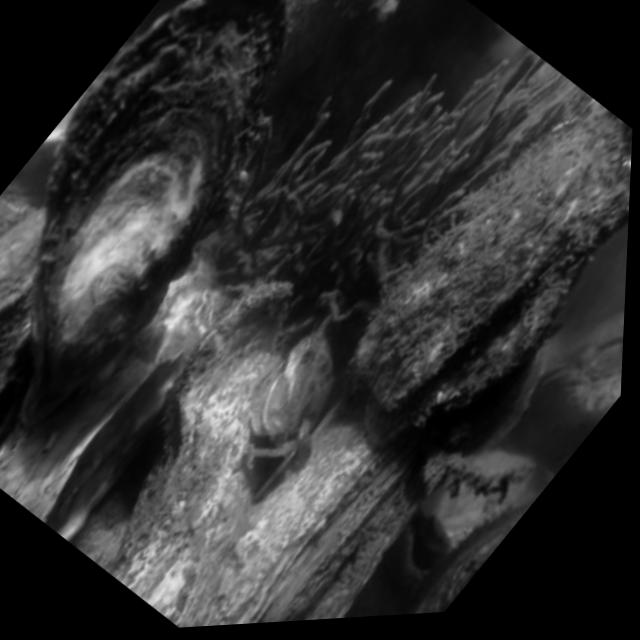Oyster-Closed: (394, 453, 554, 598), (0, 209, 40, 322)
Oyster-Indeterminate: (19, 0, 292, 434), (136, 283, 287, 555)
Oyster-Open: (348, 89, 633, 432)
